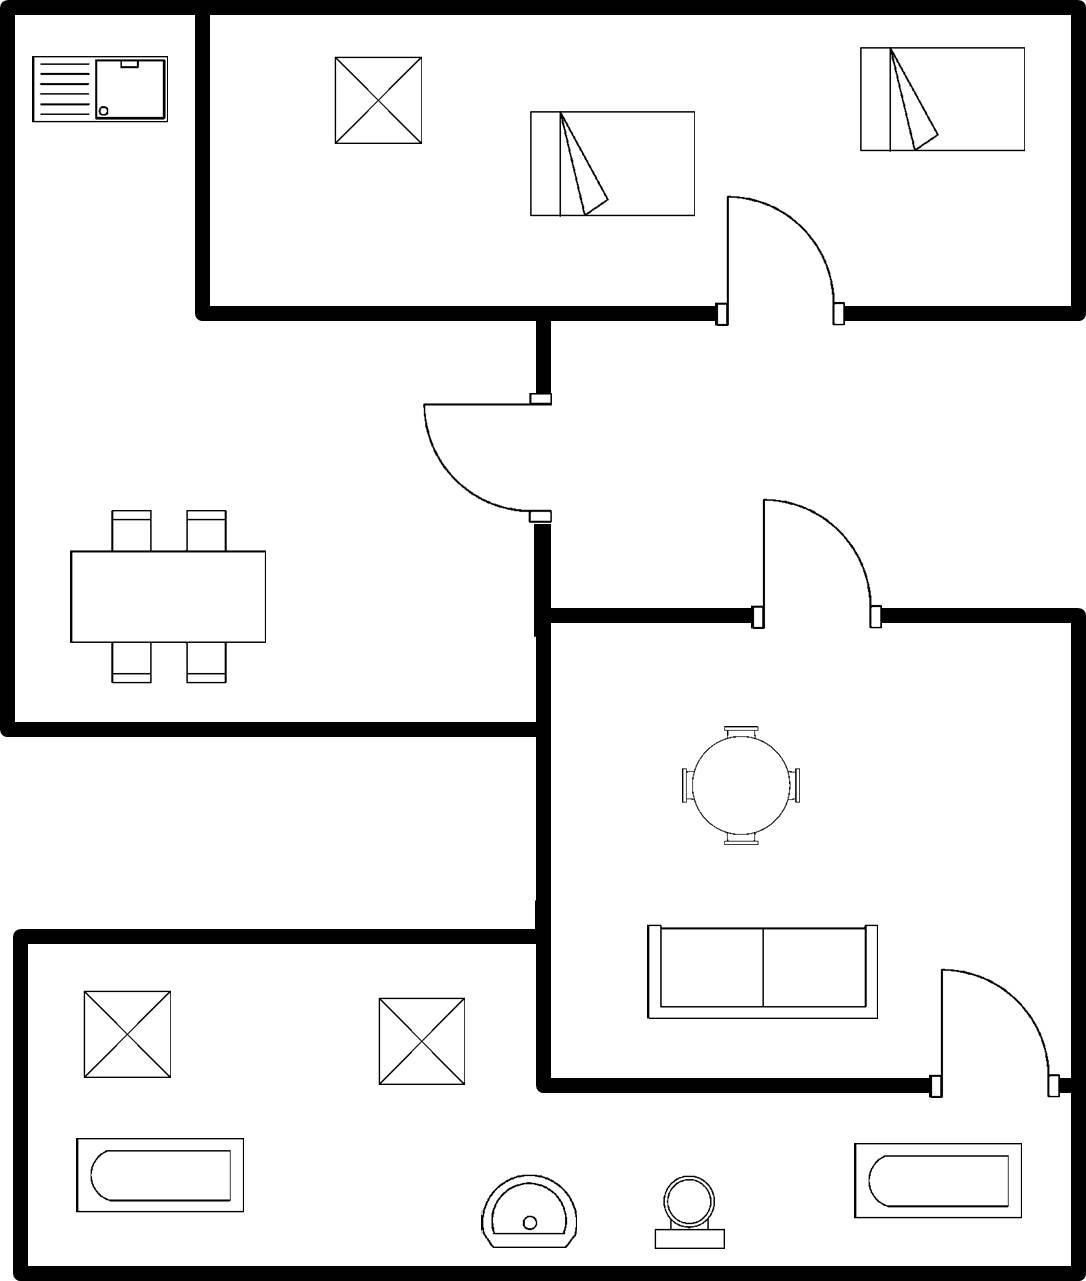bed: (516, 98, 702, 228), (847, 38, 1034, 161)
dining_table: (61, 499, 278, 690)
round_table: (672, 715, 811, 854)
sink: (23, 45, 182, 133)
sofa: (631, 914, 891, 1033)
toilet: (639, 1167, 734, 1254)
tub: (843, 1129, 1031, 1229), (64, 1129, 252, 1222)
